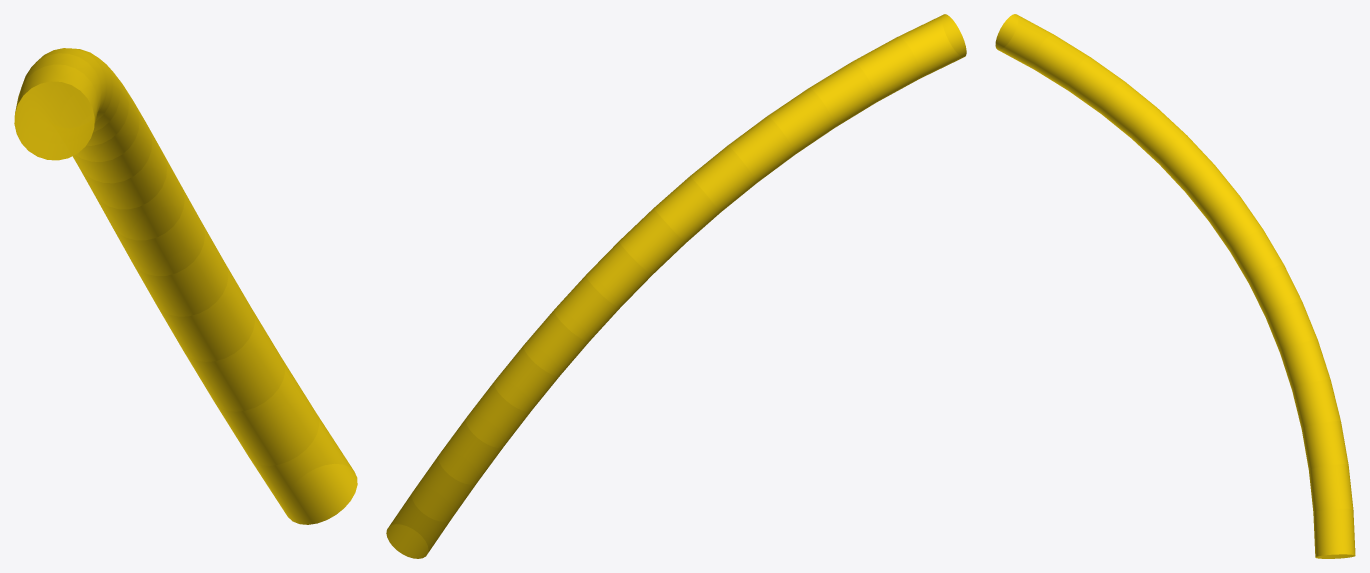
The model's file is Event_421278790_track_38.fbx.
3 views of the same model, side by side, from view 1: azimuth 30°, elevation 25°; view 2: azimuth 150°, elevation 25°; view 3: azimuth 270°, elevation 25° (orthographic). The views are drawn at different scales.
Visible parts, largest first — view 1: Model; view 2: Model; view 3: Model.
Boxes of the visible parts, x1,y1,x2,y2 form: Model: (14,48,357,524); Model: (386,14,966,558); Model: (995,14,1355,558).
Bounding box in the file's own units: 0.3748 × 0.4448 × 0.357.
